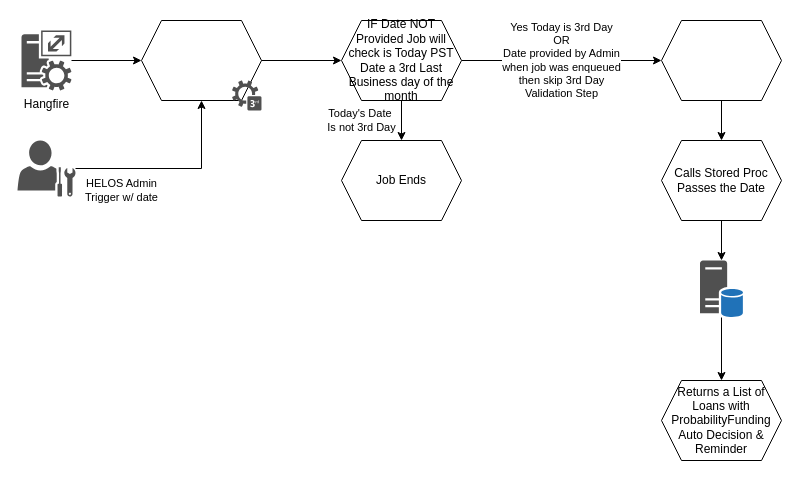
Image size: 799x478. Some labels were removed from this diagram. The box of each missing label's shape, as (x1, y1, x2, y2) in pixels:
Creates A Batch Record with 0 BatchItem: (660, 20, 782, 100)
RecurringJob Runs at 8:45pm only on these days 22nd to 28th of every month: (140, 20, 262, 100)
